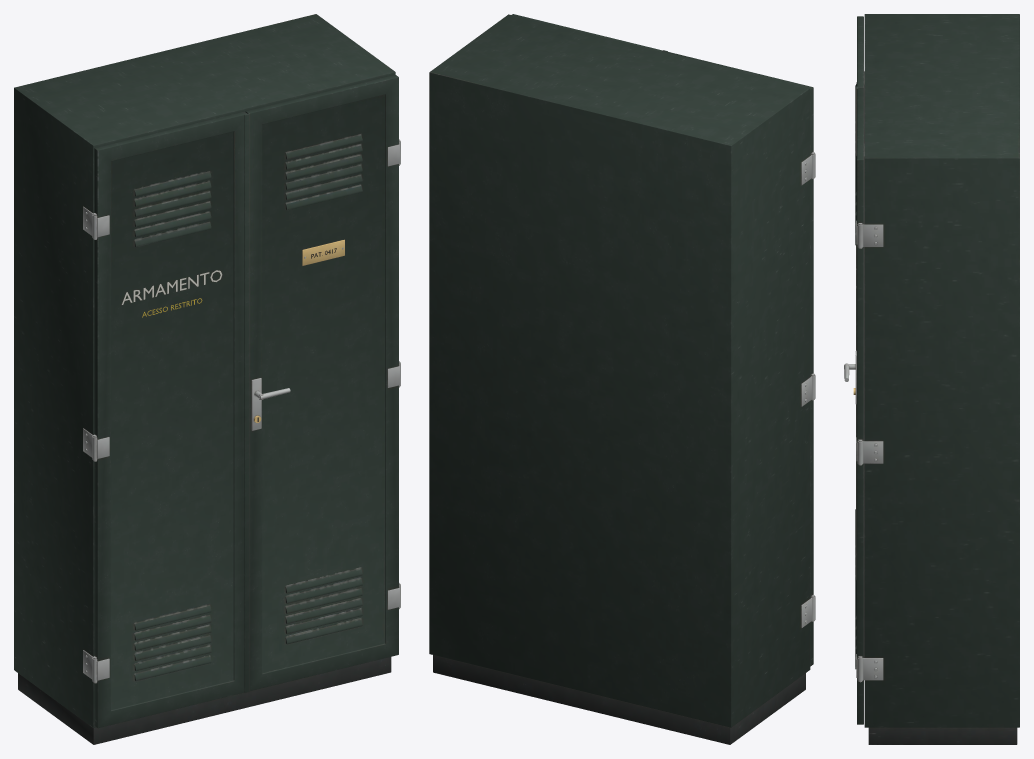
File: armario_armas.glb
3 renders of one model, left to right at view 1: azimuth 30°, elevation 25°; view 2: azimuth 150°, elevation 25°; view 3: azimuth 270°, elevation 25°, orthographic. The views are drawn at different scales.
Visible parts, largest first — view 1: porta_dir, porta_esq, corpo; view 2: corpo, porta_esq; view 3: corpo, porta_dir, porta_esq.
Part boxes in pixels (x1,y1,x2,y2): porta_dir: [244, 74, 400, 692]; porta_esq: [92, 111, 247, 728]; corpo: [14, 14, 395, 744]; corpo: [429, 14, 812, 744]; porta_esq: [662, 51, 815, 666]; corpo: [863, 14, 1019, 744]; porta_dir: [844, 86, 864, 724]; porta_esq: [855, 16, 864, 581].
Bounding box in the file's own units: 1.02 × 1.9 × 0.515.
Materials: 3 (3 with a texture image).
